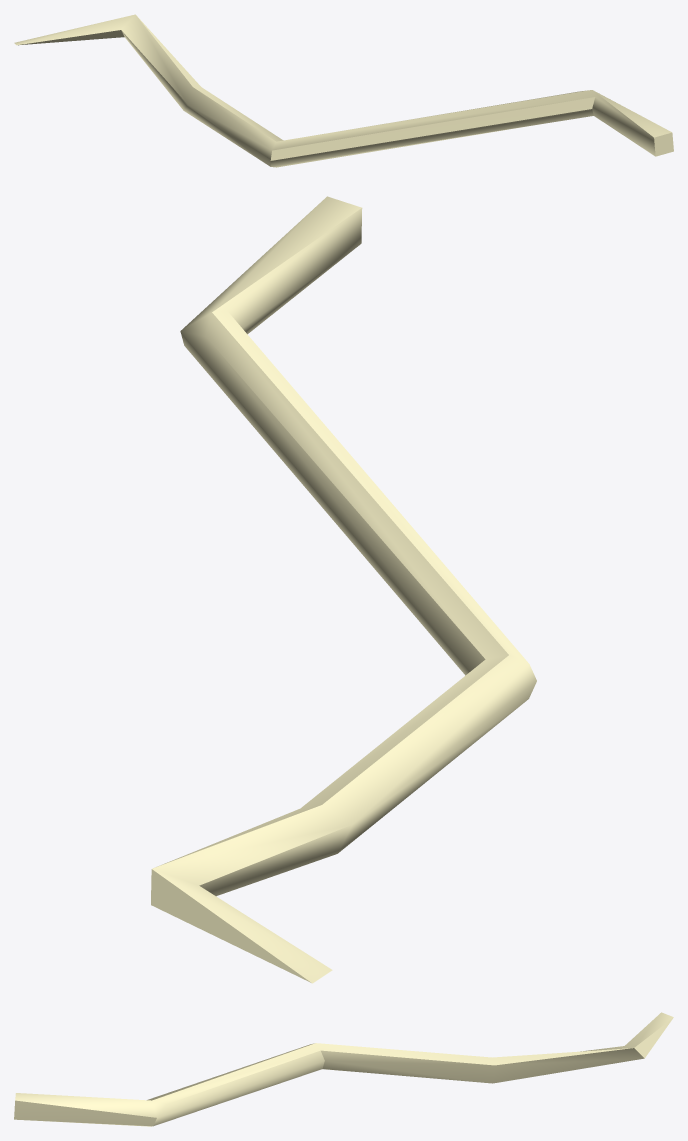
File: original-9.obj
3 views of the same model, one above another, from view 1: azimuth 30°, elevation 25°; view 2: azimuth 150°, elevation 25°; view 3: azimuth 270°, elevation 25° (orthographic). The views are drawn at different scales.
Parts seen in each view (by area): view 1: mesh9/mesh9-geometry#mesh9-geometry; view 2: mesh9/mesh9-geometry#mesh9-geometry; view 3: mesh9/mesh9-geometry#mesh9-geometry.
Boxes of the visible parts, x1,y1,x2,y2 form: mesh9/mesh9-geometry#mesh9-geometry: [14, 14, 673, 167]; mesh9/mesh9-geometry#mesh9-geometry: [151, 196, 536, 983]; mesh9/mesh9-geometry#mesh9-geometry: [14, 1012, 673, 1126].
Size of the model in its own units: 0.2477 by 0.0704 by 0.4311.
